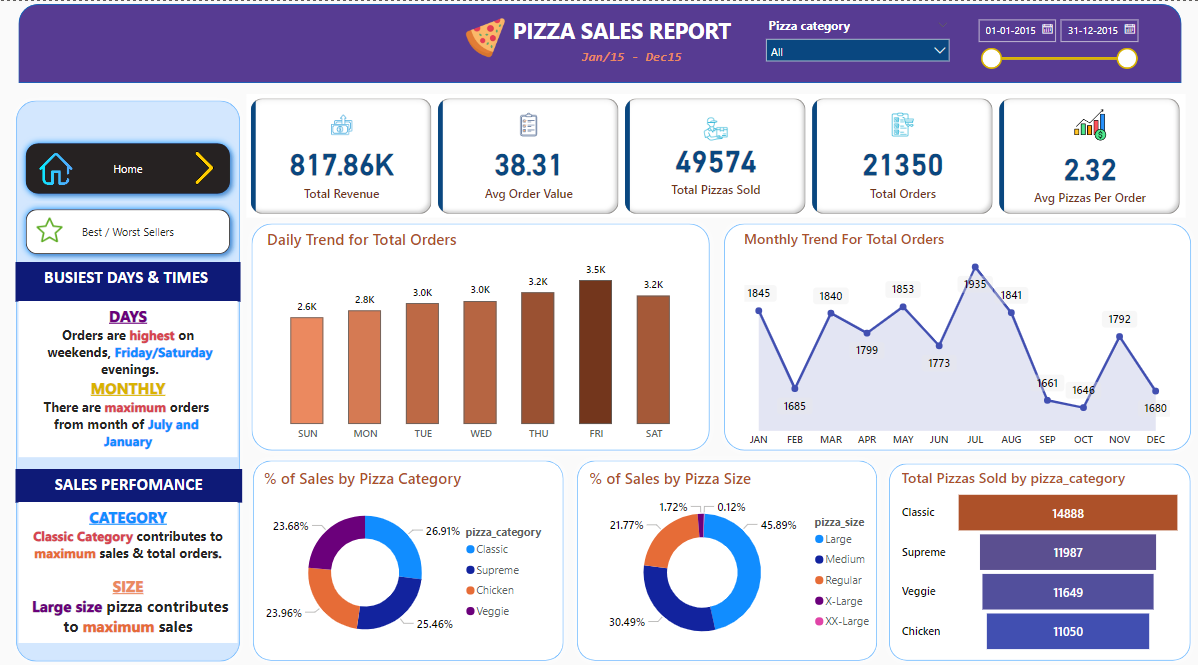

The page's visual inventory and layout, read from the dashboard file:
{"tool":"powerbi","page":{"name":"Home","canvas":[1500,820],"ordinal":0},"visuals":[{"type":"cardVisual","fields":{"Data":["pizza_sales.Total Revenue","pizza_sales.Avg Order Value","pizza_sales.Total Pizzas Sold","pizza_sales.Total Orders","pizza_sales.Avg Pizzas Per Order"]},"box":[311.6,113.6,1154.8,152.1],"z":0},{"type":"shape","box":[31.2,3.7,1429.7,97.1],"z":1},{"type":"textbox","box":[579.2,12.8,388.6,62.3],"z":2},{"type":"textbox","box":[201.6,53.2,1167.6,60.5],"z":3},{"type":"image","box":[548.1,14.7,115.5,60.5],"z":4},{"type":"shape","box":[309.8,265.8,579.2,295.1],"z":5},{"type":"columnChart","title":"Daily Trend for Total Orders","fields":{"Category":["pizza_sales.Order Day"],"Y":["pizza_sales.Total Orders"]},"box":[331.8,280.4,535.2,269.5],"z":6},{"type":"shape","box":[890.8,265.8,590.2,295.1],"z":7},{"type":"areaChart","title":"Monthly Trend For Total Orders ","fields":{"Category":["pizza_sales.Order Month"],"Y":["pizza_sales.Total Orders"]},"box":[918.3,280.4,533.4,276.8],"z":8},{"type":"shape","box":[311.6,557.2,397.8,262.1],"z":9},{"type":"shape","box":[1094.3,560.9,386.8,258.5],"z":10},{"type":"shape","box":[709.4,557.2,384.9,262.1],"z":11},{"type":"donutChart","title":"% of Sales by Pizza Category","fields":{"Category":["pizza_sales.pizza_category"],"Y":["pizza_sales.Total Revenue"]},"box":[328.1,573.7,366.6,232.8],"z":12},{"type":"donutChart","title":"% of Sales by Pizza Size","fields":{"Category":["pizza_sales.pizza_size"],"Y":["pizza_sales.Total Revenue"]},"box":[727.7,573.7,366.6,232.8],"z":13},{"type":"funnel","fields":{"Category":["pizza_sales.pizza_category"],"Y":["pizza_sales.Total Pizzas Sold"]},"box":[1112.6,573.7,353.8,232.8],"z":14},{"type":"shape","box":[20.2,113.6,291.4,705.7],"z":15},{"type":"textbox","box":[28.3,320.2,276.9,49],"z":16},{"type":"textbox","box":[32,369.2,269.4,192.1],"z":17},{"type":"textbox","box":[28.3,574.5,278.8,41.4],"z":18},{"type":"textbox","box":[32,615.9,269.4,173.3],"z":19},{"type":"slicer","fields":{"Values":["pizza_sales.pizza_category"]},"box":[940.3,14.7,245.6,88],"z":20},{"type":"slicer","fields":{"Values":["pizza_sales.order_date"]},"box":[1198.8,12.8,216.3,78.8],"z":21},{"type":"pageNavigator","box":[31.2,166.8,269.5,80.7],"z":22},{"type":"pageNavigator","box":[31.2,247.5,269.5,73.3],"z":23},{"type":"image","box":[51.3,181.5,51.3,51.3],"z":24},{"type":"image","box":[234.6,179.6,51.3,53.2],"z":25},{"type":"image","box":[36.7,260.3,66,42.2],"z":26}]}

Visuals, with their boxes in screenshot pixels (x1, y1, x2, y2), scaled from the page's 1500x820 canvas onto the 1198x665 screenshot:
cardVisual - pizza_sales.Total Revenue x pizza_sales.Avg Order Value: 249, 92, 1171, 215
shape: 25, 3, 1167, 82
textbox: 463, 10, 773, 61
textbox: 161, 43, 1094, 92
image: 438, 12, 530, 61
shape: 247, 216, 710, 455
"Daily Trend for Total Orders" columnChart: 265, 227, 692, 446
shape: 711, 216, 1183, 455
"Monthly Trend For Total Orders " areaChart: 733, 227, 1159, 452
shape: 249, 452, 567, 664
shape: 874, 455, 1183, 664
shape: 567, 452, 874, 664
"% of Sales by Pizza Category" donutChart: 262, 465, 555, 654
"% of Sales by Pizza Size" donutChart: 581, 465, 874, 654
funnel - pizza_sales.pizza_category x pizza_sales.Total Pizzas Sold: 889, 465, 1171, 654
shape: 16, 92, 249, 664
textbox: 23, 260, 244, 299
textbox: 26, 299, 241, 455
textbox: 23, 466, 245, 499
textbox: 26, 499, 241, 640
slicer - pizza_sales.pizza_category: 751, 12, 947, 83
slicer - pizza_sales.order_date: 957, 10, 1130, 74
pageNavigator: 25, 135, 240, 201
pageNavigator: 25, 201, 240, 260
image: 41, 147, 82, 189
image: 187, 146, 228, 189
image: 29, 211, 82, 245
